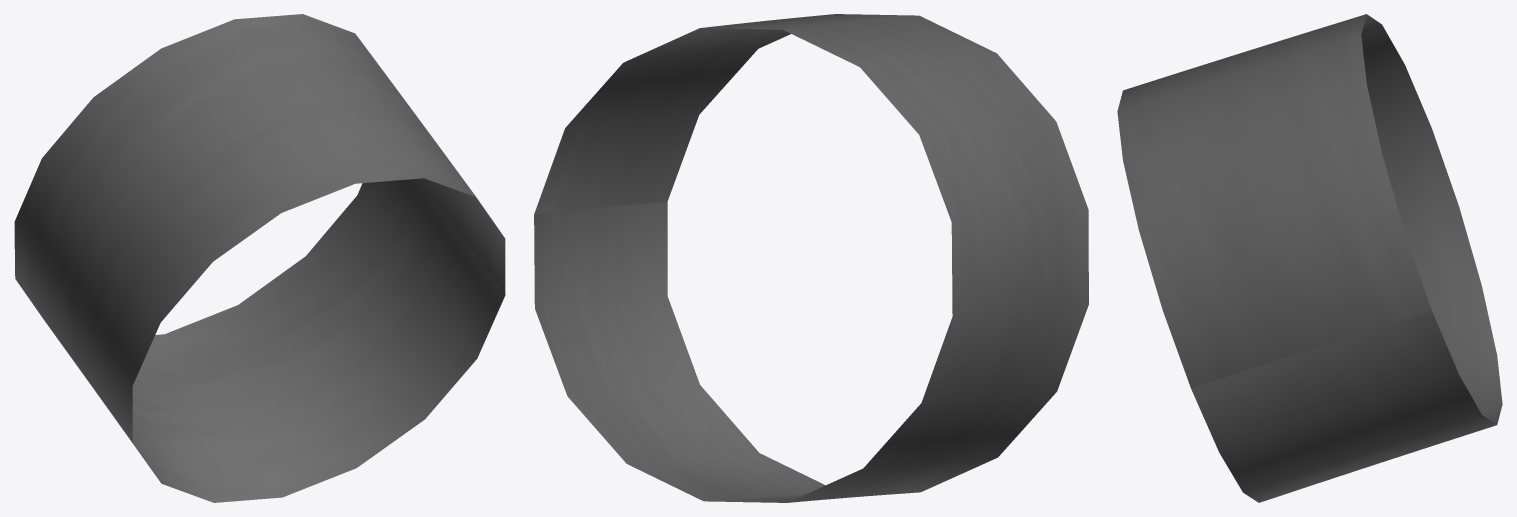
Rendered from mastarmcurve_10x2_c1.obj.
The picture shows the model from 3 angles, left to right: view 1: azimuth 30°, elevation 25°; view 2: azimuth 150°, elevation 25°; view 3: azimuth 270°, elevation 25°; orthographic projection. The views are drawn at different scales.
Visible parts, largest first — view 1: mastarm_10x2_c1; view 2: mastarm_10x2_c1; view 3: mastarm_10x2_c1.
Part boxes in pixels (box(x1,y1,x2,y2)): mastarm_10x2_c1: box(14, 14, 505, 502); mastarm_10x2_c1: box(534, 14, 1088, 502); mastarm_10x2_c1: box(1117, 14, 1502, 502).
Size of the model in its own units: 0.6125 by 0.6955 by 0.543.
